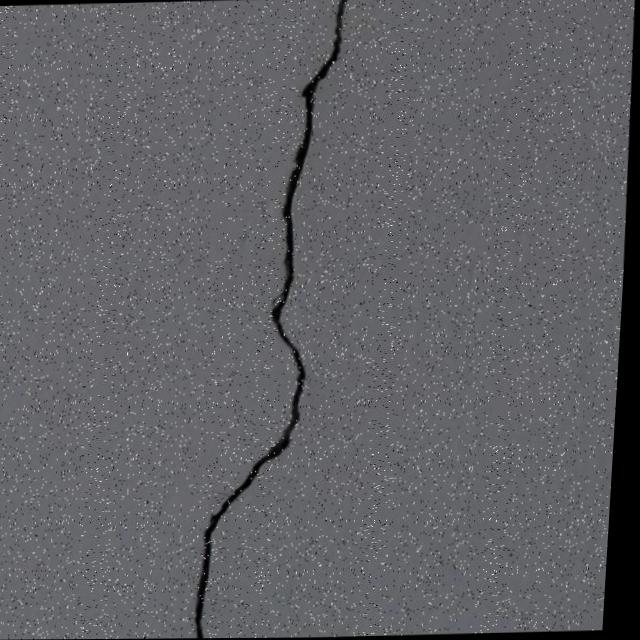Crack: (177, 0, 377, 639)
